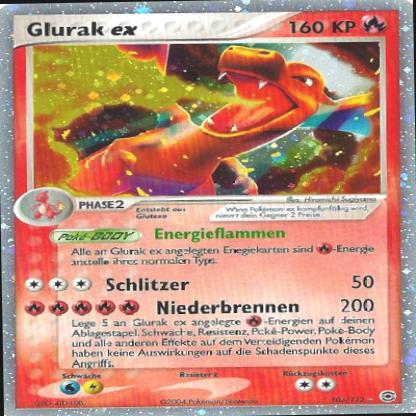Charizard: (47, 44, 379, 186)
